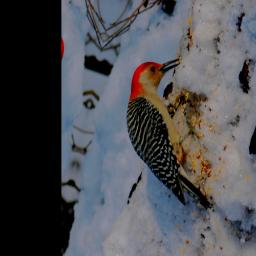Woodpecker: (108, 44, 244, 219)
